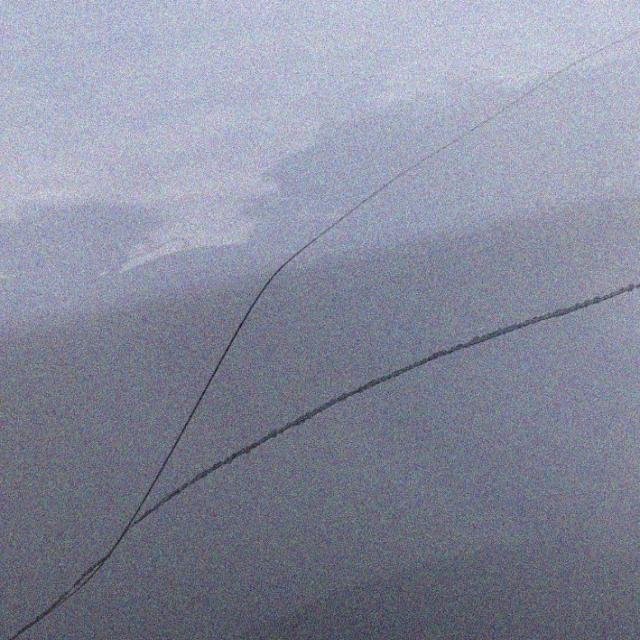crack: (228, 88, 606, 375), (225, 301, 640, 484)
